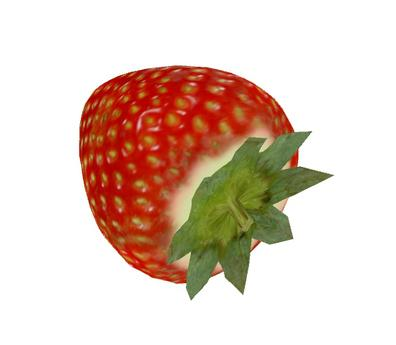strawberry: (0, 0, 396, 345)
